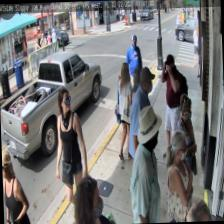person: (51, 87, 88, 224), (126, 65, 160, 206), (127, 104, 166, 224), (174, 93, 198, 209), (164, 129, 194, 221), (1, 146, 30, 224), (67, 175, 110, 224), (115, 62, 134, 160), (123, 32, 143, 112)
